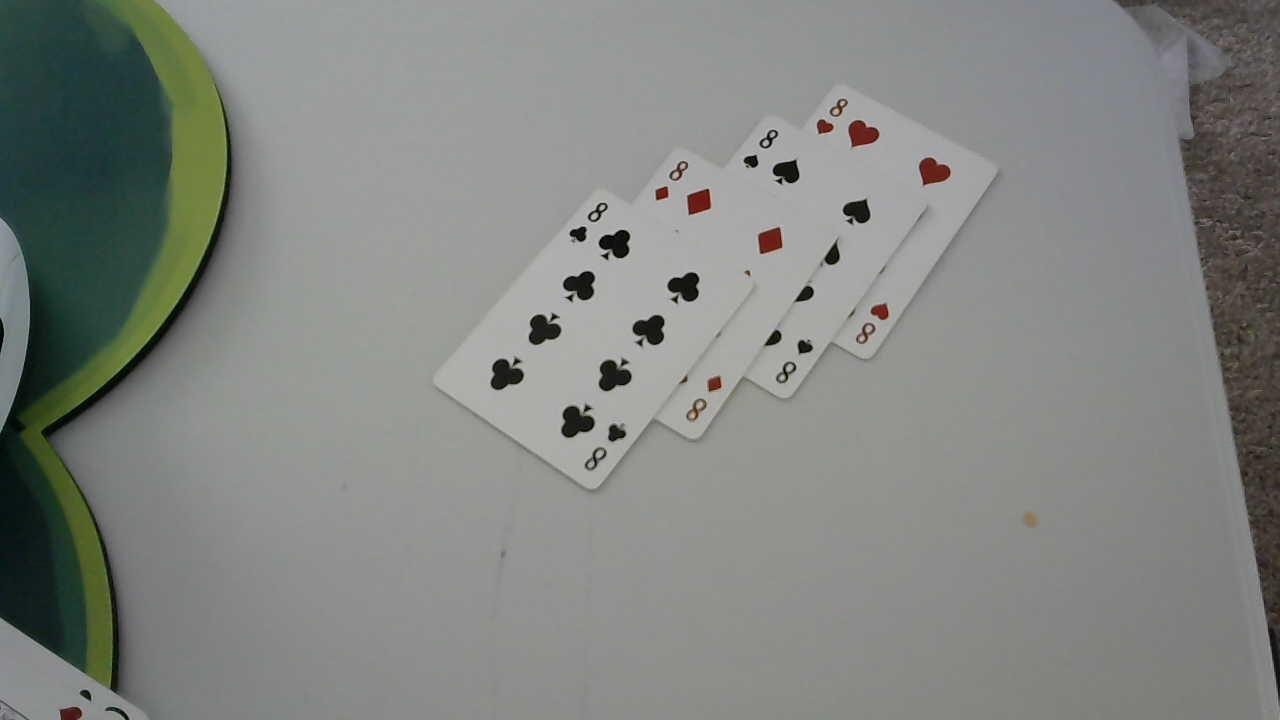8C: (583, 416, 632, 474), (563, 194, 609, 248)
8D: (683, 370, 728, 428), (649, 156, 690, 209)
8H: (853, 299, 892, 348), (813, 91, 851, 138)
8S: (776, 333, 817, 387), (739, 122, 780, 171)
